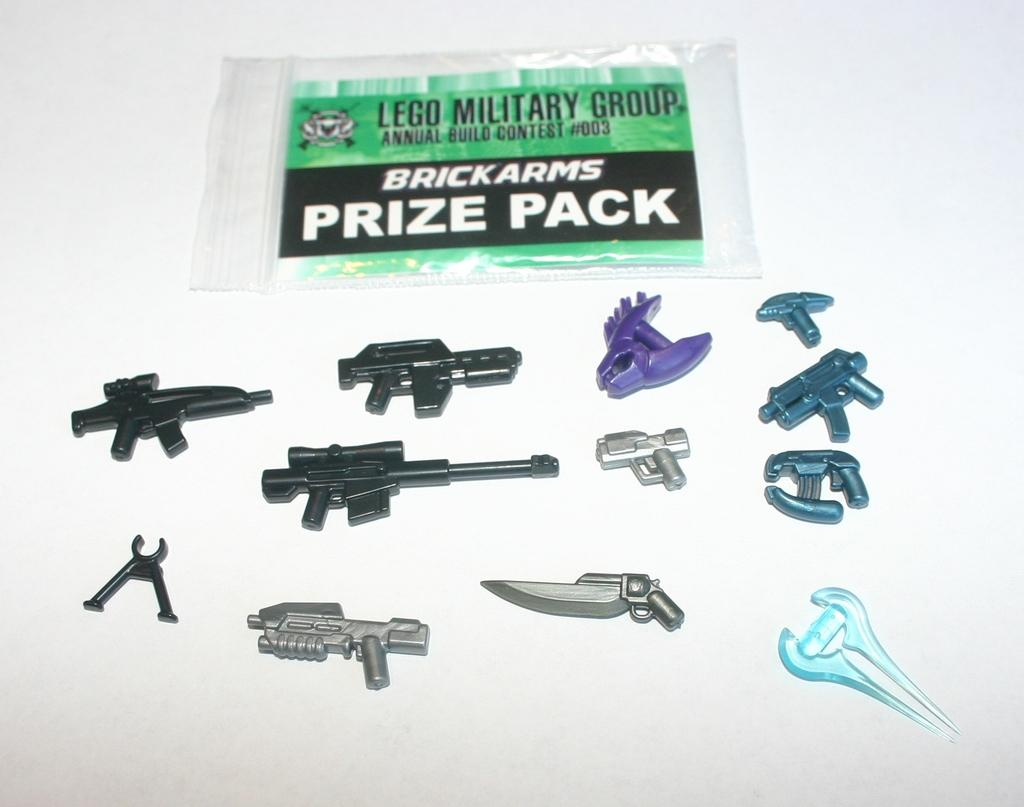Rifle: (259, 442, 554, 527), (62, 367, 276, 466), (243, 595, 435, 696), (332, 333, 522, 423), (752, 340, 888, 447)
